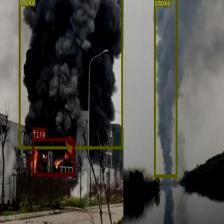fire: (32, 138, 74, 176)
smoke: (18, 0, 123, 148), (154, 0, 177, 177)
